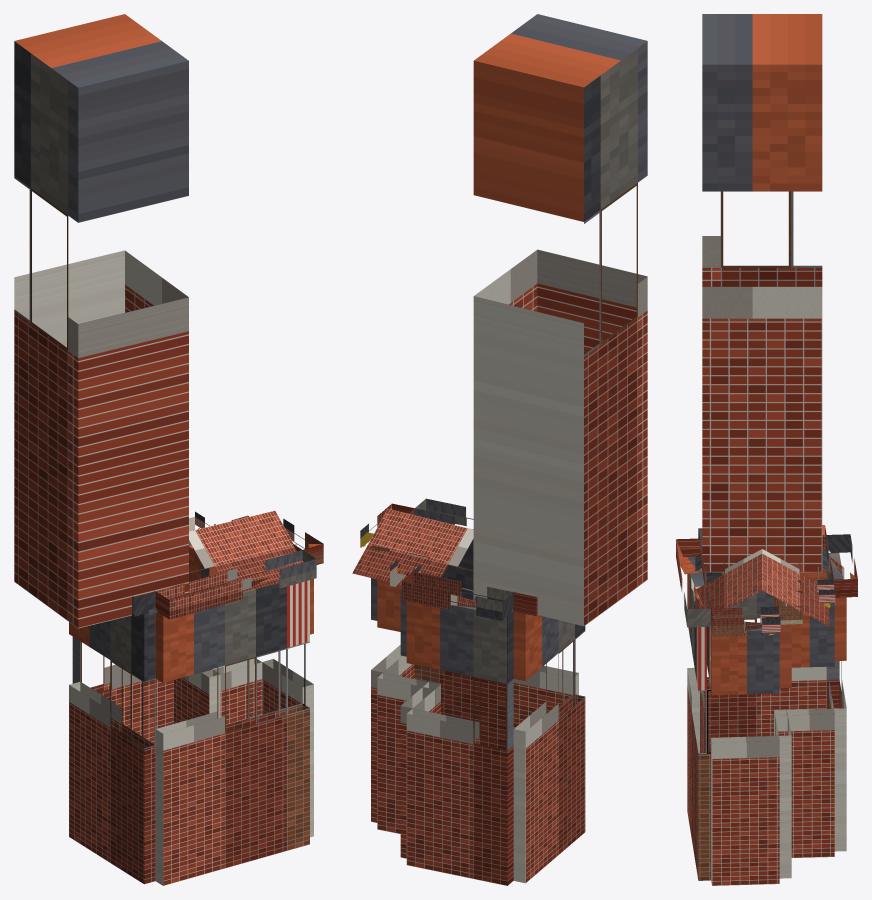
3 views of the same model, side by side, from view 1: azimuth 30°, elevation 25°; view 2: azimuth 150°, elevation 25°; view 3: azimuth 270°, elevation 25° (orthographic). The views are drawn at different scales.
Visible parts, largest first — view 1: 1106964403__chimney_0_xb, 1106964403__wall_0_xb, 1106964403__wall_1_xb, 1106964403_roof_-1_xb, 1106964403__cornice_0, 1106964403__wall_2_xb, 1106964403__wall_4_xb, 1106964403__wall_5_xb, 1106964403__wall_3_xb, 1106964403__cornice_5; view 2: 1106964403__chimney_0_xb, 1106964403__wall_2_xb, 1106964403__wall_1_xb, 1106964403__wall_0_xb, 1106964403__wall_4_xb, 1106964403_roof_1_xb, 1106964403__cornice_2, 1106964403__wall_5_xb, 1106964403__wall_3_xb, 1106964403__cornice_0; view 3: 1106964403__chimney_0_xb, 1106964403__wall_5_xb, 1106964403__wall_3_xb, 1106964403__wall_1_xb, 1106964403__wall_0_xb, 1106964403__wall_2_xb, 1106964403__wall_4_xb, 1106964403_roof_1_xb, 1106964403_roof_-1_xb, 1106964403__cornice_5, 1106964403__cornice_0, 1106964403__cornice_2 (+2 smaller).
Boxes of the visible parts, <box> form: 1106964403__chimney_0_xb: <box>14,14,188,628</box>; 1106964403__wall_0_xb: <box>155,580,309,885</box>; 1106964403__wall_1_xb: <box>69,613,155,884</box>; 1106964403_roof_-1_xb: <box>148,510,303,614</box>; 1106964403__cornice_0: <box>155,550,316,619</box>; 1106964403__wall_2_xb: <box>72,636,173,743</box>; 1106964403__wall_4_xb: <box>201,563,262,724</box>; 1106964403__wall_5_xb: <box>262,579,313,837</box>; 1106964403__wall_3_xb: <box>173,541,220,723</box>; 1106964403__cornice_5: <box>283,518,323,564</box>; 1106964403__chimney_0_xb: <box>473,14,647,626</box>; 1106964403__wall_2_xb: <box>406,601,513,885</box>; 1106964403__wall_1_xb: <box>513,611,585,883</box>; 1106964403__wall_0_xb: <box>414,538,578,743</box>; 1106964403__wall_4_xb: <box>377,579,440,833</box>; 1106964403_roof_1_xb: <box>352,509,513,611</box>; 1106964403__cornice_2: <box>401,571,513,620</box>; 1106964403__wall_5_xb: <box>371,578,414,822</box>; 1106964403__wall_3_xb: <box>400,587,437,858</box>; 1106964403__cornice_0: <box>414,498,473,529</box>; 1106964403__chimney_0_xb: <box>702,14,822,572</box>; 1106964403__wall_5_xb: <box>711,627,779,885</box>; 1106964403__wall_3_xb: <box>774,600,834,857</box>; 1106964403__wall_1_xb: <box>704,568,826,750</box>; 1106964403__wall_0_xb: <box>687,568,710,880</box>; 1106964403__wall_2_xb: <box>826,552,846,851</box>; 1106964403__wall_4_xb: <box>774,624,791,878</box>; 1106964403_roof_1_xb: <box>762,549,829,626</box>; 1106964403_roof_-1_xb: <box>695,549,762,615</box>; 1106964403__cornice_5: <box>711,606,780,636</box>; 1106964403__cornice_0: <box>676,538,710,627</box>; 1106964403__cornice_2: <box>826,534,857,597</box>.
Size of the model in its own units: 0.3403 by 1.05 by 0.2272.
1 material, 1 textured.
